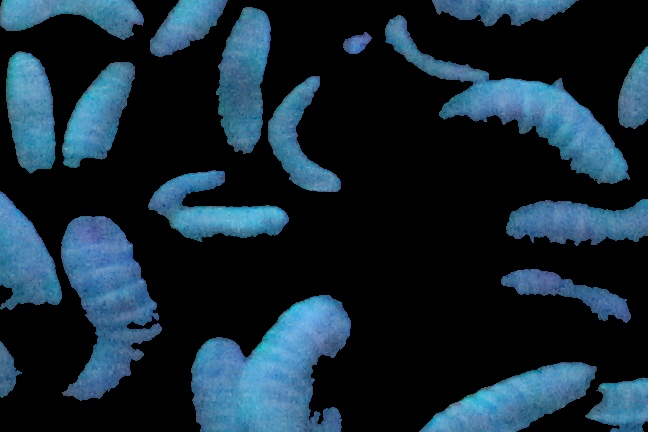larvae: (439, 78, 627, 184), (63, 216, 163, 404), (241, 296, 351, 432), (427, 363, 597, 432), (151, 169, 289, 238), (506, 260, 631, 335), (269, 74, 341, 193), (64, 55, 138, 169), (505, 197, 648, 255), (1, 187, 64, 316), (216, 9, 272, 151), (1, 50, 60, 171), (385, 15, 489, 83), (1, 1, 144, 39), (192, 335, 243, 432), (150, 1, 229, 58), (436, 1, 583, 24)
